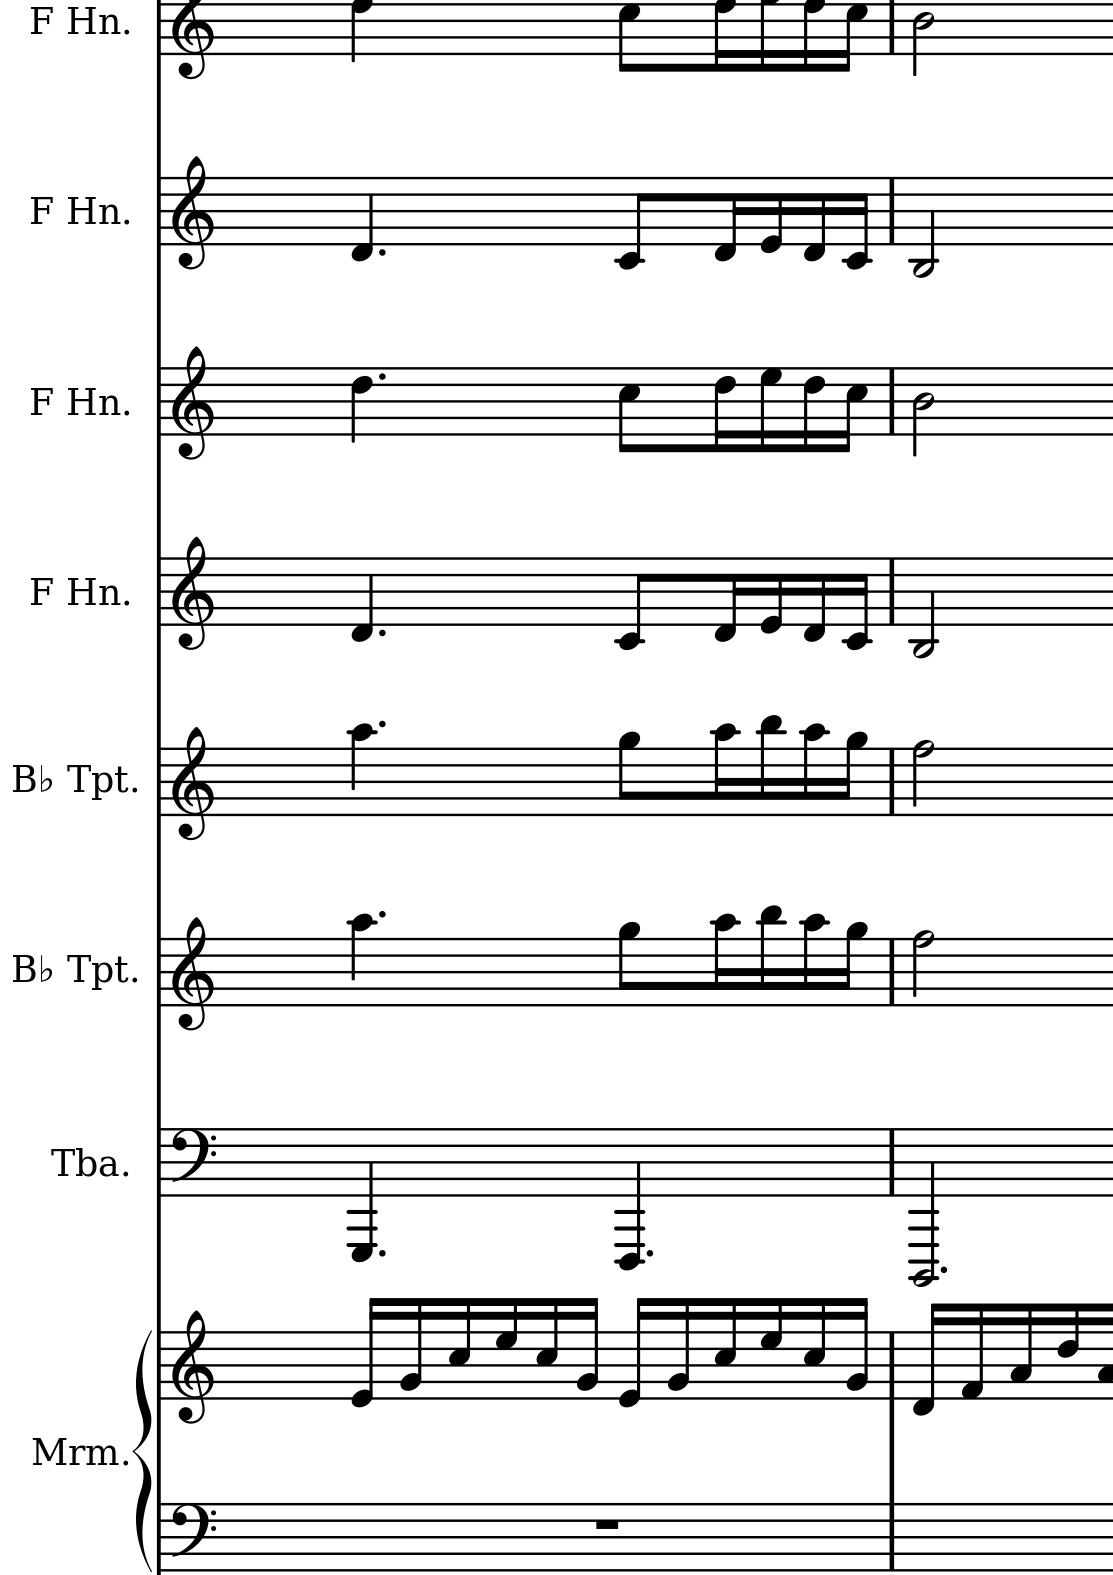16_-1: (911, 1302, 946, 1417), (711, 176, 744, 265), (712, 558, 747, 643), (801, 175, 828, 262), (802, 554, 828, 644)
16_-2: (842, 555, 871, 653), (843, 176, 870, 275)
16_0: (347, 1298, 387, 1409), (616, 1297, 654, 1410), (758, 556, 785, 637), (760, 176, 784, 255)
16_1: (958, 1300, 987, 1402)
16_10: (797, 914, 832, 1010), (709, 912, 740, 1009), (711, 721, 740, 819), (800, 722, 829, 818)
16_11: (756, 904, 787, 1008), (756, 714, 784, 818)
16_2: (573, 1296, 600, 1400), (666, 1297, 693, 1400), (397, 1297, 424, 1400), (844, 1296, 868, 1400)
16_3: (1008, 1302, 1033, 1402)
16_5: (840, 366, 872, 455), (713, 1297, 740, 1403), (532, 1296, 559, 1400), (447, 1296, 472, 1402), (802, 1297, 828, 1402)
16_6: (1055, 1302, 1080, 1403), (802, 366, 828, 453), (714, 365, 736, 456)
16_7: (758, 1294, 784, 1400), (494, 1296, 518, 1400), (759, 364, 782, 454)
16_9: (840, 921, 867, 1008), (841, 730, 867, 819)
2_-10: (908, 1127, 940, 1288)
2_-3: (907, 556, 937, 661), (909, 175, 937, 279)
2_4: (909, 367, 936, 458)
2_8: (911, 928, 937, 1010), (909, 741, 936, 818)
4_-1: (347, 553, 375, 643), (349, 172, 373, 264)
4_-8: (613, 1126, 646, 1272), (344, 1126, 377, 1263)
4_10: (346, 721, 377, 816), (347, 912, 375, 1007)
4_6: (351, 364, 373, 446)
8_-2: (611, 556, 652, 651), (614, 175, 653, 272)
8_5: (617, 365, 641, 456)
8_9: (616, 921, 642, 1009), (617, 730, 641, 816)
Brace: (131, 1328, 157, 1575)
Fclef: (167, 1502, 217, 1562), (167, 1123, 217, 1182)
Gclef: (172, 153, 217, 271), (171, 916, 216, 1034), (173, 531, 214, 655), (171, 346, 214, 460), (172, 727, 214, 843), (172, 1309, 213, 1424)
Hn: (64, 1, 117, 48), (66, 191, 122, 229), (66, 382, 119, 420), (67, 574, 120, 608)
Rests1: (590, 1517, 622, 1538)
Single_barline: (881, 1504, 902, 1571), (882, 368, 902, 435), (882, 1129, 902, 1196), (882, 559, 901, 626), (883, 749, 902, 815), (883, 939, 902, 1005), (882, 1333, 901, 1399), (882, 179, 901, 244), (151, 1129, 167, 1197), (882, 1, 902, 55), (152, 558, 167, 626), (152, 1332, 167, 1400), (152, 368, 167, 436), (152, 749, 167, 816), (152, 939, 167, 1007), (152, 179, 167, 246), (151, 1, 167, 55), (154, 1504, 167, 1573)
Tba: (48, 1145, 120, 1181)
Tpt: (67, 946, 126, 998), (66, 757, 126, 800)
dot: (376, 370, 388, 384), (375, 908, 387, 921), (937, 1264, 949, 1278), (375, 1247, 387, 1260), (643, 1247, 655, 1260), (375, 247, 387, 258), (376, 627, 387, 639), (376, 719, 385, 730)
